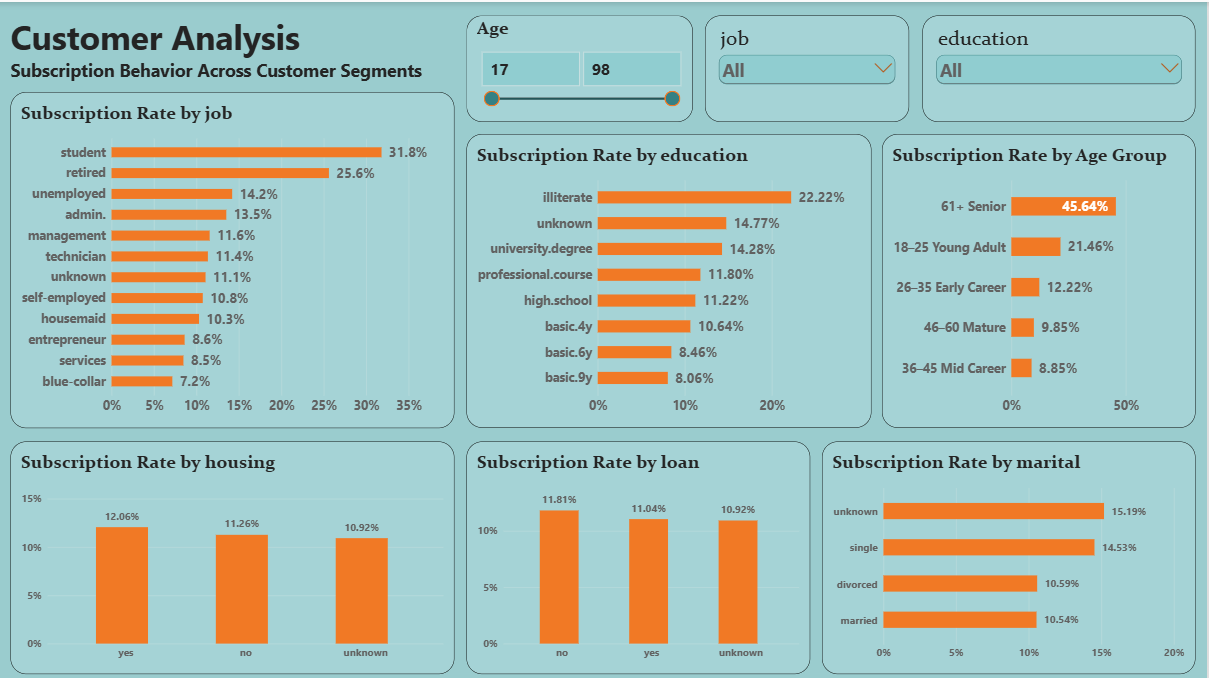

This screenshot's page, from the dashboard's own definition file:
{"tool":"powerbi","page":{"name":"Customer Analysis","canvas":[1920,1080],"ordinal":1},"visuals":[{"type":"clusteredBarChart","fields":{"Category":["Bank_Marketing.job"],"Y":["Measures (2).Subscription Rate"]},"box":[16.7,143.2,706.2,534.4],"z":0},{"type":"clusteredBarChart","fields":{"Category":["Bank_Marketing.education"],"Y":["Measures (2).Subscription Rate"]},"box":[742,210,644.2,467.6],"z":1000},{"type":"clusteredBarChart","fields":{"Category":["Bank_Marketing.marital"],"Y":["Measures (2).Subscription Rate"]},"box":[1307.5,699.1,594.1,369.8],"z":2000},{"type":"clusteredBarChart","fields":{"Category":["Bank_Marketing.Age Group"],"Y":["Measures (2).Subscription Rate"]},"box":[1402.9,210,498.7,467.6],"z":3000},{"type":"clusteredColumnChart","fields":{"Category":["Bank_Marketing.housing"],"Y":["Measures (2).Subscription Rate"]},"box":[16.7,699.1,706.2,369.8],"z":4000},{"type":"clusteredColumnChart","fields":{"Category":["Bank_Marketing.loan"],"Y":["Measures (2).Subscription Rate"]},"box":[742,699.1,546.4,369.8],"z":5000},{"type":"textbox","title":"Customer Analysis","box":[16.7,19.1,670.4,124.1],"z":6000},{"type":"slicer","title":"Age","fields":{"Values":["Bank_Marketing.age"]},"box":[742,21.5,360.3,169.4],"z":7000},{"type":"slicer","fields":{"Values":["Bank_Marketing.job"]},"box":[1121.4,21.5,324.5,169.4],"z":8000},{"type":"slicer","fields":{"Values":["Bank_Marketing.education"]},"box":[1467.3,21.5,434.2,169.4],"z":9000}]}

Visuals, with their boxes in screenshot pixels (x1, y1, x2, y2), scaled from the page's 1920x1080 canvas onto the 1209x678 screenshot:
clusteredBarChart - Bank_Marketing.job x Measures (2).Subscription Rate: l=11, t=90, r=455, b=425
clusteredBarChart - Bank_Marketing.education x Measures (2).Subscription Rate: l=467, t=132, r=873, b=425
clusteredBarChart - Bank_Marketing.marital x Measures (2).Subscription Rate: l=823, t=439, r=1197, b=671
clusteredBarChart - Bank_Marketing.Age Group x Measures (2).Subscription Rate: l=883, t=132, r=1197, b=425
clusteredColumnChart - Bank_Marketing.housing x Measures (2).Subscription Rate: l=11, t=439, r=455, b=671
clusteredColumnChart - Bank_Marketing.loan x Measures (2).Subscription Rate: l=467, t=439, r=811, b=671
"Customer Analysis" textbox: l=11, t=12, r=433, b=90
"Age" slicer: l=467, t=13, r=694, b=120
slicer - Bank_Marketing.job: l=706, t=13, r=910, b=120
slicer - Bank_Marketing.education: l=924, t=13, r=1197, b=120
